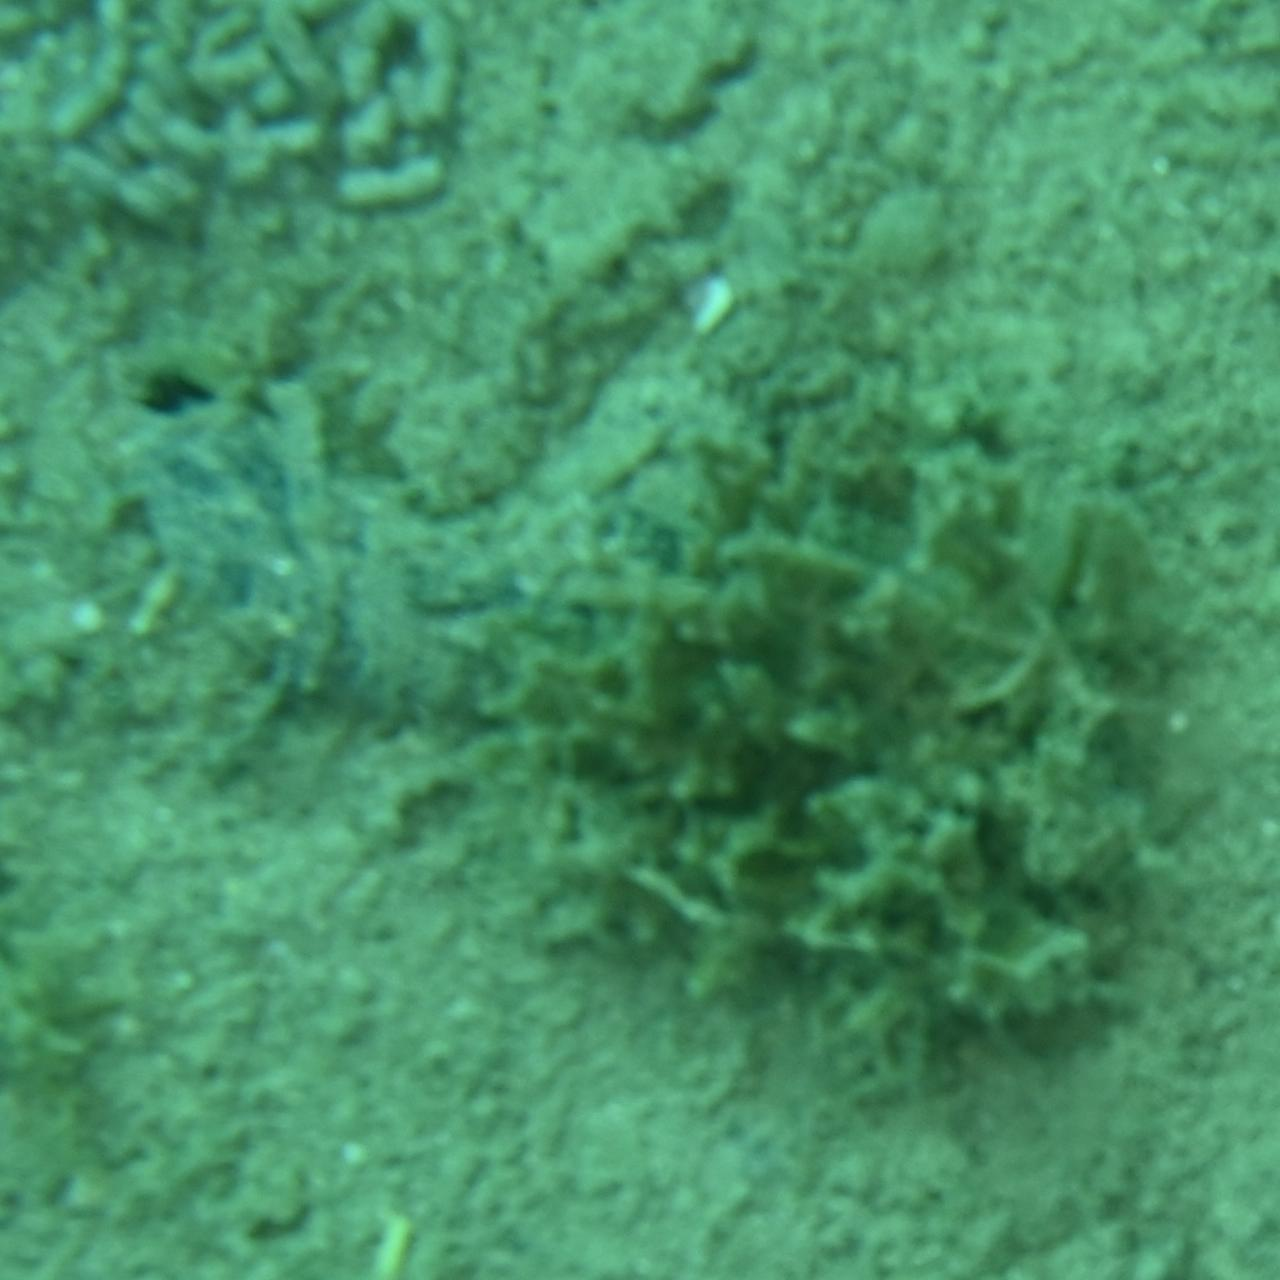Holothuria tubulosa: (102, 341, 754, 730)
Phaeophyceae -cfr Cystoseira-: (518, 392, 1189, 1096)
